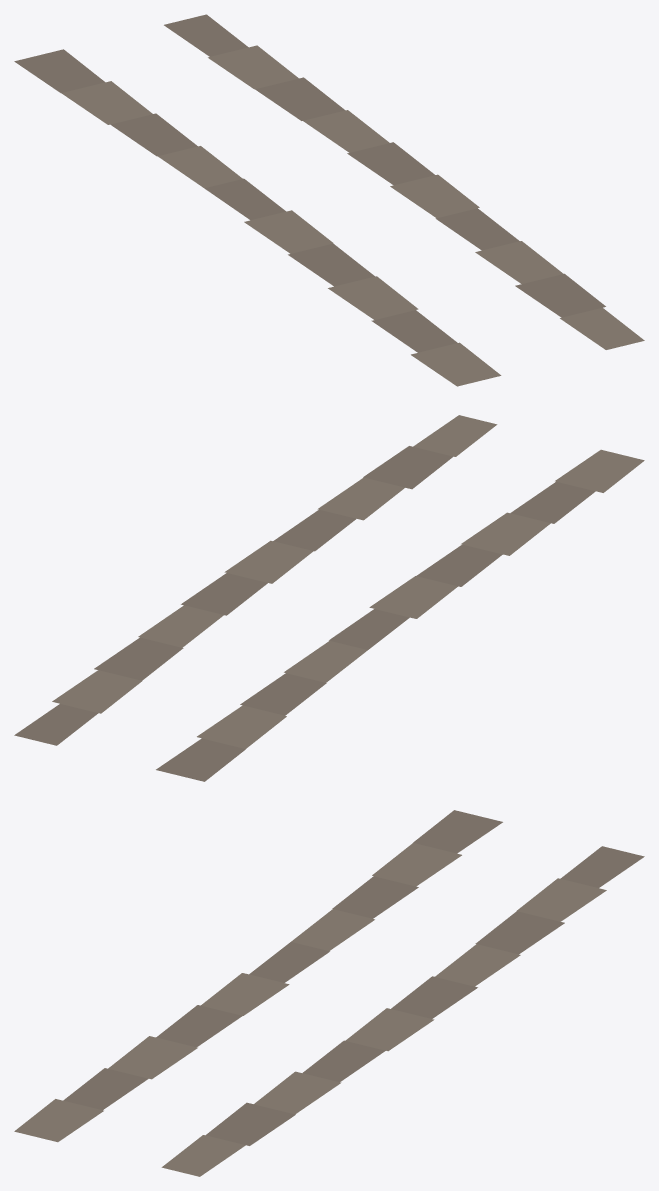
The model's file is tracks.glb.
3 views of the same model, one above another, from view 1: azimuth 30°, elevation 25°; view 2: azimuth 150°, elevation 25°; view 3: azimuth 330°, elevation 25° (orthographic).
Parts seen in each view (by area): view 1: tracks; view 2: tracks; view 3: tracks.
Boxes of the visible parts, box(x1,y1,x2,y2) form: tracks: box(14, 14, 644, 386); tracks: box(14, 415, 644, 781); tracks: box(14, 810, 644, 1176).
Size of the model in its own units: 2.67 by 0 by 10.
